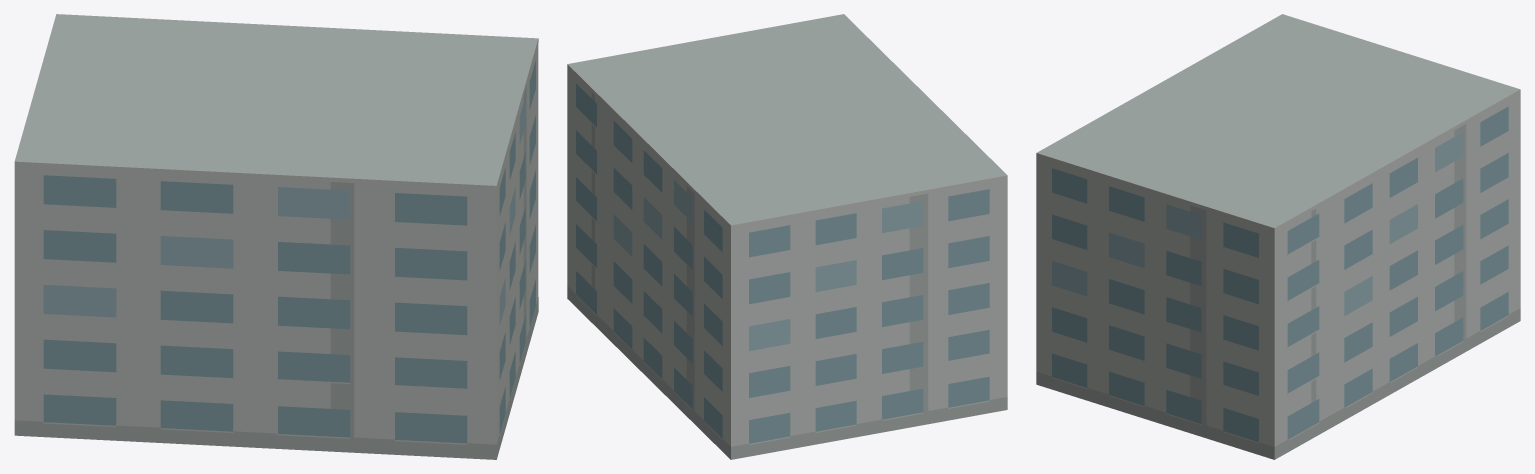
Rendered from residential-c76534a3-801a-4989-8d39-f6a5cd8e4474.glb.
3 renders of one model, left to right at view 1: azimuth 30°, elevation 25°; view 2: azimuth 150°, elevation 25°; view 3: azimuth 270°, elevation 25°, orthographic. The views are drawn at different scales.
Visible parts, largest first — view 1: residential-c76534a3-801a-4989-8d39-f6a5cd8e4474.tmp; view 2: residential-c76534a3-801a-4989-8d39-f6a5cd8e4474.tmp; view 3: residential-c76534a3-801a-4989-8d39-f6a5cd8e4474.tmp.
Part boxes in pixels (bbox=[...]): residential-c76534a3-801a-4989-8d39-f6a5cd8e4474.tmp: bbox=[14, 14, 538, 459]; residential-c76534a3-801a-4989-8d39-f6a5cd8e4474.tmp: bbox=[567, 14, 1007, 459]; residential-c76534a3-801a-4989-8d39-f6a5cd8e4474.tmp: bbox=[1036, 14, 1520, 459].
Bounding box in the file's own units: 30.25 × 15.25 × 28.89.
